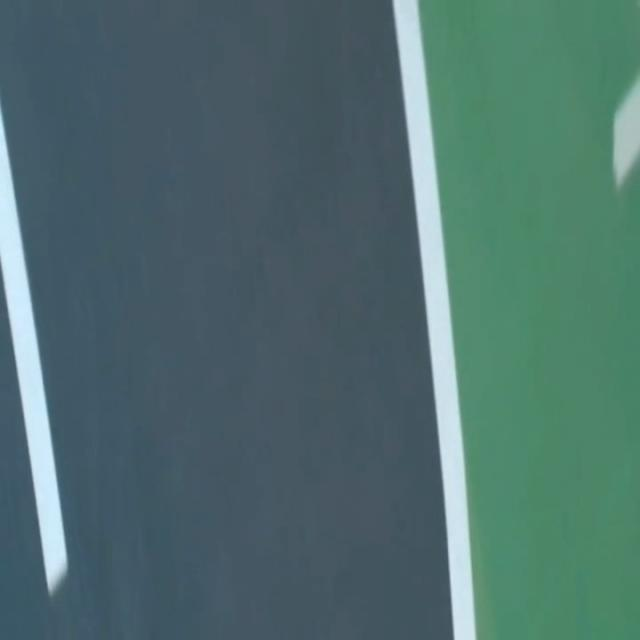center: (0, 102, 67, 594)
right: (393, 0, 476, 639)
